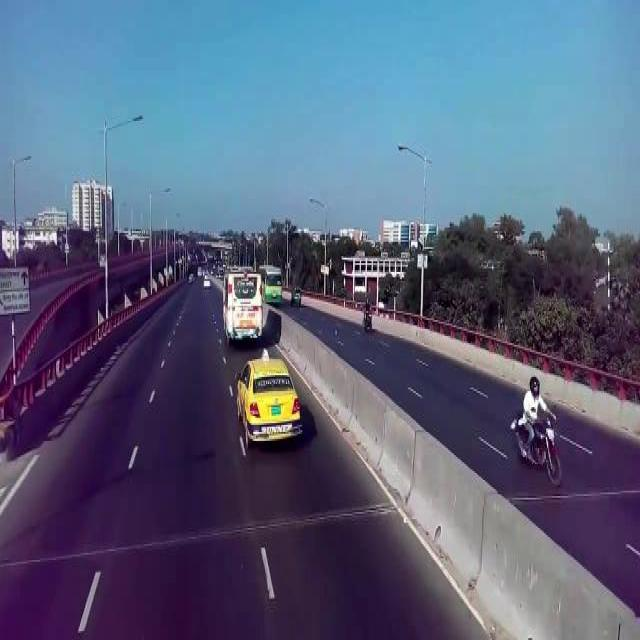10: (508, 374, 564, 490), (361, 297, 374, 332)
16: (234, 346, 304, 454)
17: (289, 284, 301, 306)
8: (220, 266, 266, 349)
Truck: (258, 266, 284, 306)
